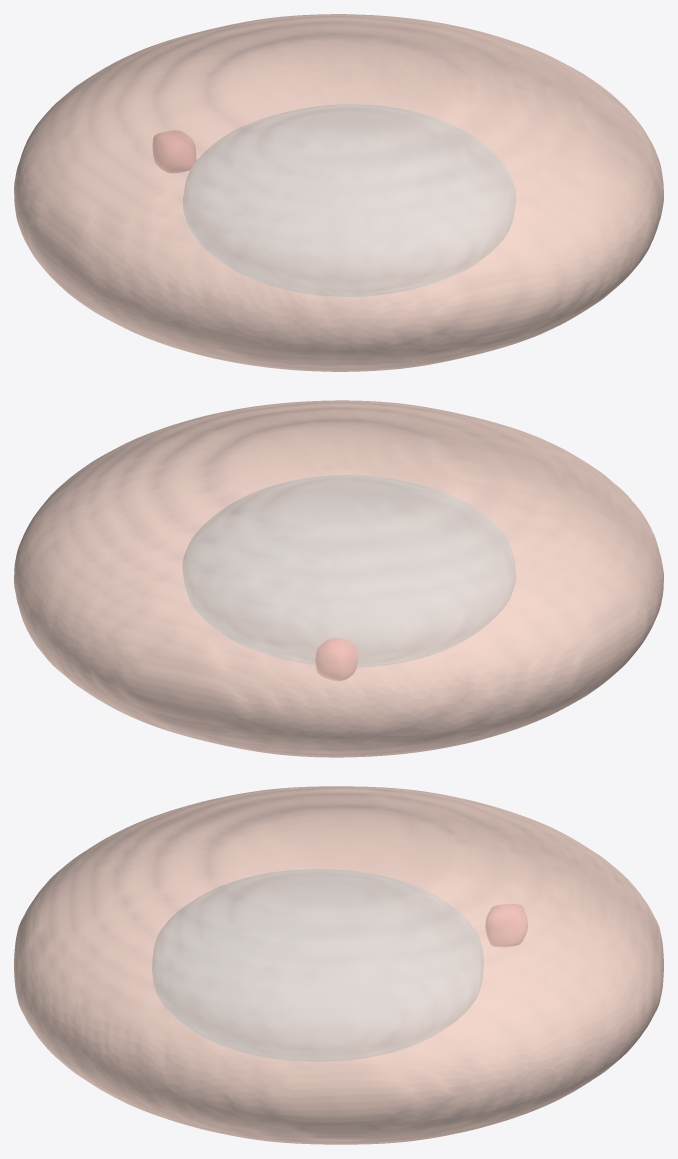
The picture shows the model from 3 angles, top to bottom: view 1: azimuth 30°, elevation 25°; view 2: azimuth 150°, elevation 25°; view 3: azimuth 270°, elevation 25°; orthographic projection.
Parts seen in each view (by area): view 1: gland, zone_pz, zone_tz, lesion_01; view 2: gland, zone_pz, zone_tz, lesion_01; view 3: gland, zone_pz, zone_tz, lesion_01.
Part boxes in pixels (x1=…): gland: x1=14, y1=14, x2=663, y2=371; zone_pz: x1=14, y1=14, x2=663, y2=371; zone_tz: x1=183, y1=104, x2=515, y2=296; lesion_01: x1=152, y1=130, x2=195, y2=172; gland: x1=14, y1=400, x2=663, y2=757; zone_pz: x1=14, y1=400, x2=663, y2=757; zone_tz: x1=182, y1=475, x2=515, y2=667; lesion_01: x1=315, y1=638, x2=357, y2=680; gland: x1=14, y1=786, x2=663, y2=1144; zone_pz: x1=14, y1=786, x2=663, y2=1144; zone_tz: x1=152, y1=869, x2=483, y2=1061; lesion_01: x1=485, y1=904, x2=527, y2=946.
Size of the model in its own units: 0.031 by 0.0115 by 0.031.
